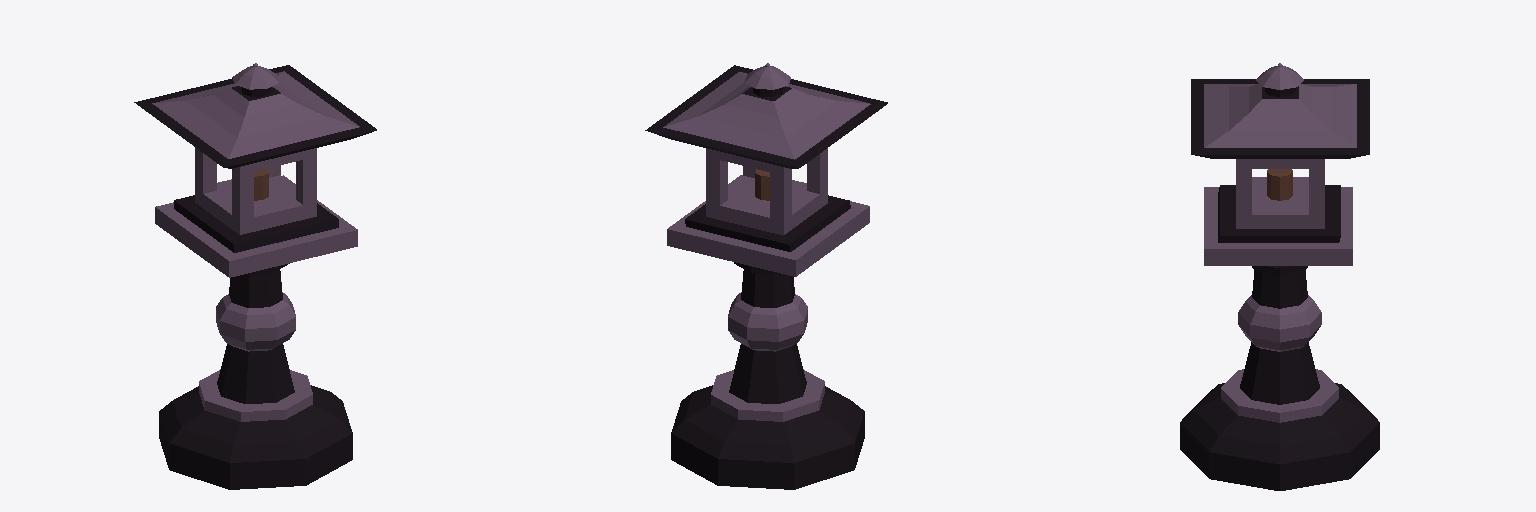
File: Lightstand_A.obj
3 views of the same model, side by side, from view 1: azimuth 30°, elevation 25°; view 2: azimuth 150°, elevation 25°; view 3: azimuth 270°, elevation 25° (orthographic).
Parts seen in each view (by area): view 1: Lightstand_A; view 2: Lightstand_A; view 3: Lightstand_A.
Boxes of the visible parts, box(x1,y1,x2,y2) form: Lightstand_A: box(134, 63, 376, 489); Lightstand_A: box(645, 63, 887, 489); Lightstand_A: box(1180, 63, 1379, 490).
Size of the model in its own units: 2.3 by 4.89 by 2.3.